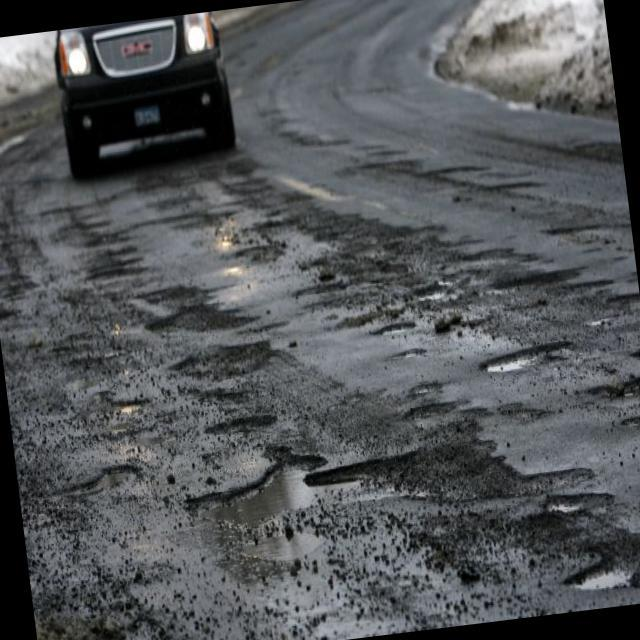Pothole: (178, 421, 466, 553), (469, 324, 578, 394), (553, 523, 640, 610), (165, 328, 279, 394), (54, 449, 150, 510), (145, 296, 251, 346), (198, 402, 286, 448), (548, 482, 614, 526), (103, 380, 148, 426), (370, 308, 420, 344), (595, 366, 640, 402), (413, 276, 452, 309), (613, 403, 640, 438)
